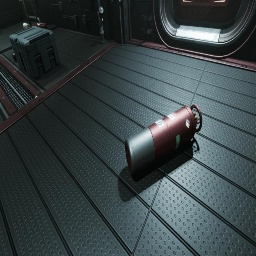0: (23, 23, 30, 29)
FirstAidBox ,: (31, 22, 48, 30)
NitrogenTank ,: (125, 104, 202, 176), (24, 26, 30, 30)
